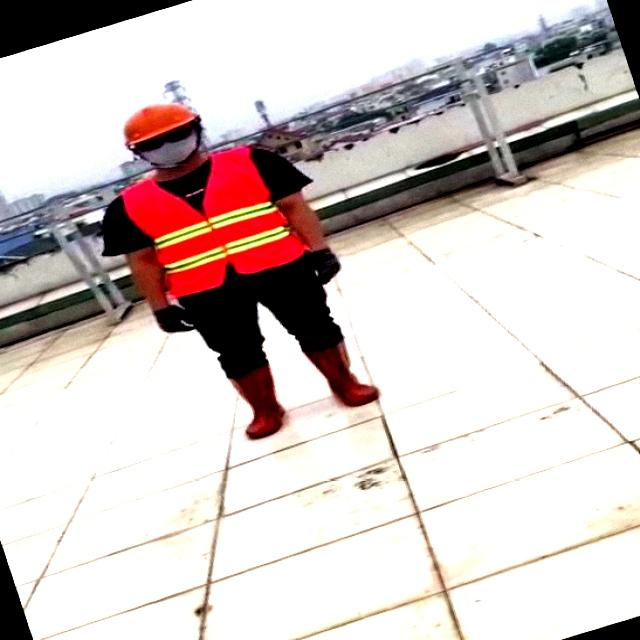helmet: (108, 93, 204, 154)
safety_vest: (110, 155, 317, 292)
